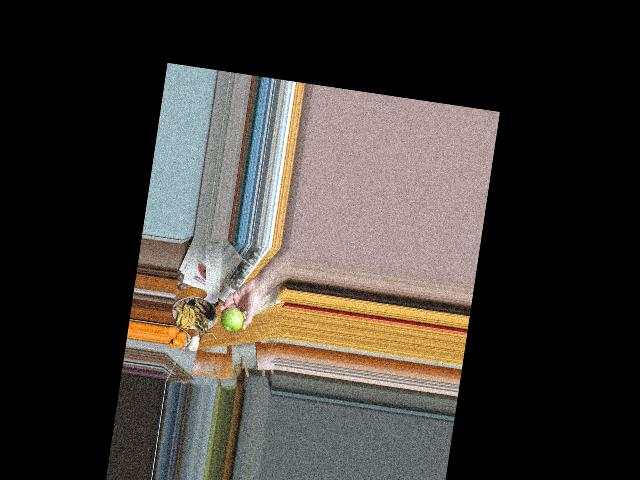apple: (218, 307, 245, 333)
